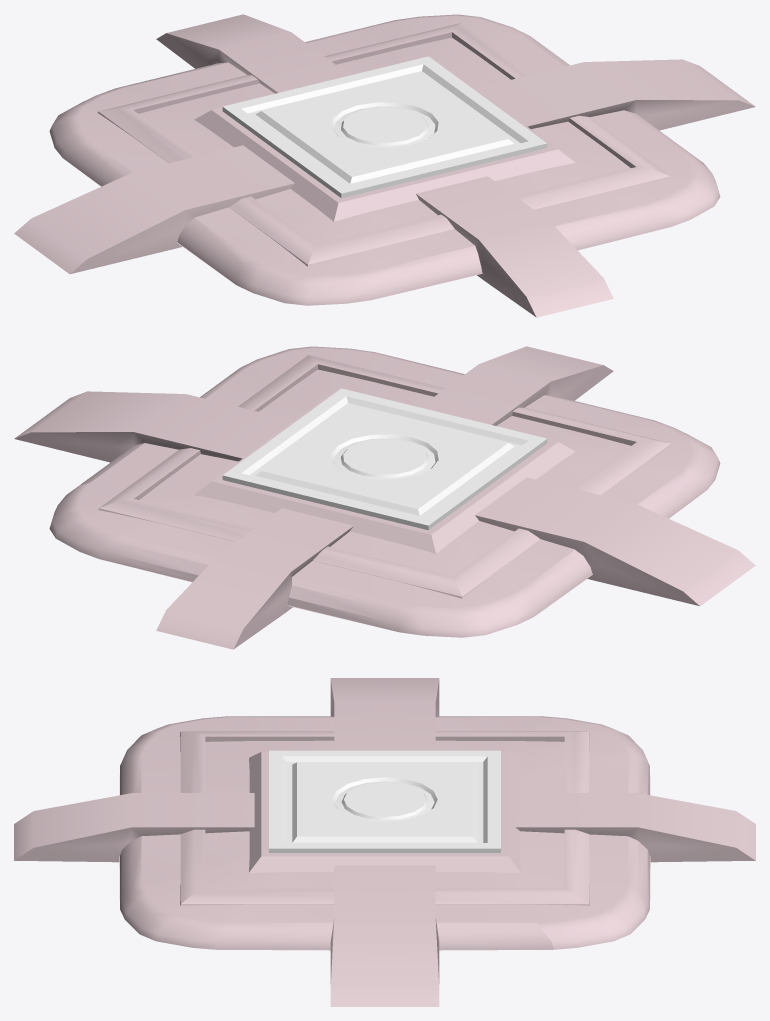
The model's file is boton.fbx.
3 views of the same model, one above another, from view 1: azimuth 30°, elevation 25°; view 2: azimuth 150°, elevation 25°; view 3: azimuth 270°, elevation 25° (orthographic). The views are drawn at different scales.
Visible parts, largest first — view 1: boton, button_presionable; view 2: boton, button_presionable; view 3: boton, button_presionable.
Part boxes in pixels (box(x1,y1,x2,y2)): boton: box(14, 14, 755, 317); button_presionable: box(222, 56, 547, 198); boton: box(14, 346, 755, 649); button_presionable: box(222, 388, 547, 530); boton: box(14, 678, 755, 1006); button_presionable: box(269, 750, 500, 852).
Bounding box in the file's own units: 7.18 × 0.4588 × 6.9.
